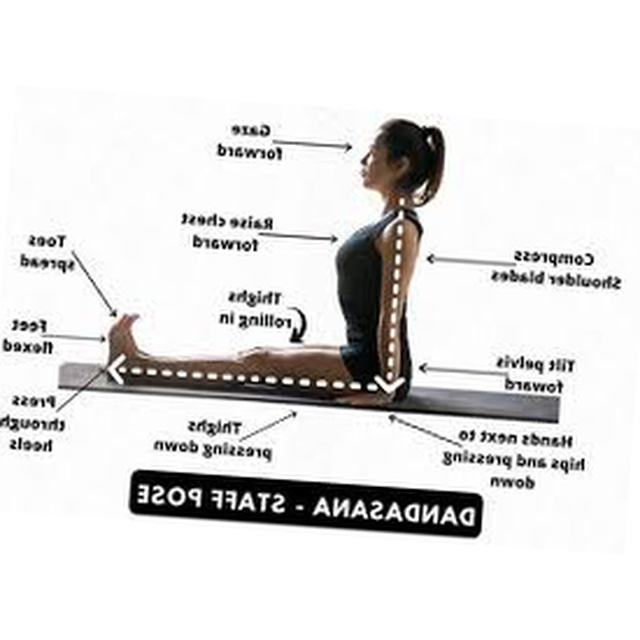Staff_Pose: (107, 119, 446, 408)
